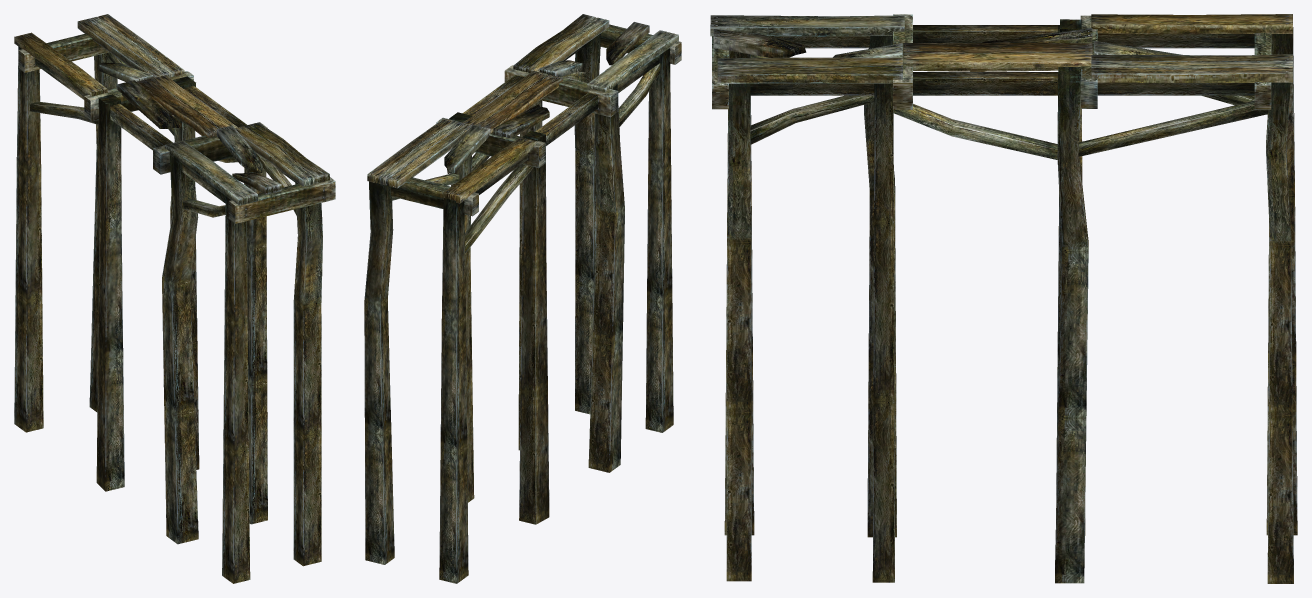
Rendered from most_4.glb.
3 views of the same model, side by side, from view 1: azimuth 30°, elevation 25°; view 2: azimuth 150°, elevation 25°; view 3: azimuth 270°, elevation 25° (orthographic). The views are drawn at different scales.
Parts seen in each view (by area): view 1: most_4-col; view 2: most_4-col; view 3: most_4-col.
Part boxes in pixels (bbox=[...]): most_4-col: bbox=[14, 14, 335, 583]; most_4-col: bbox=[364, 14, 681, 583]; most_4-col: bbox=[710, 14, 1297, 583].
Bounding box in the file's own units: 3.45 × 12.12 × 12.55.
Materials: 5 (5 with a texture image).
